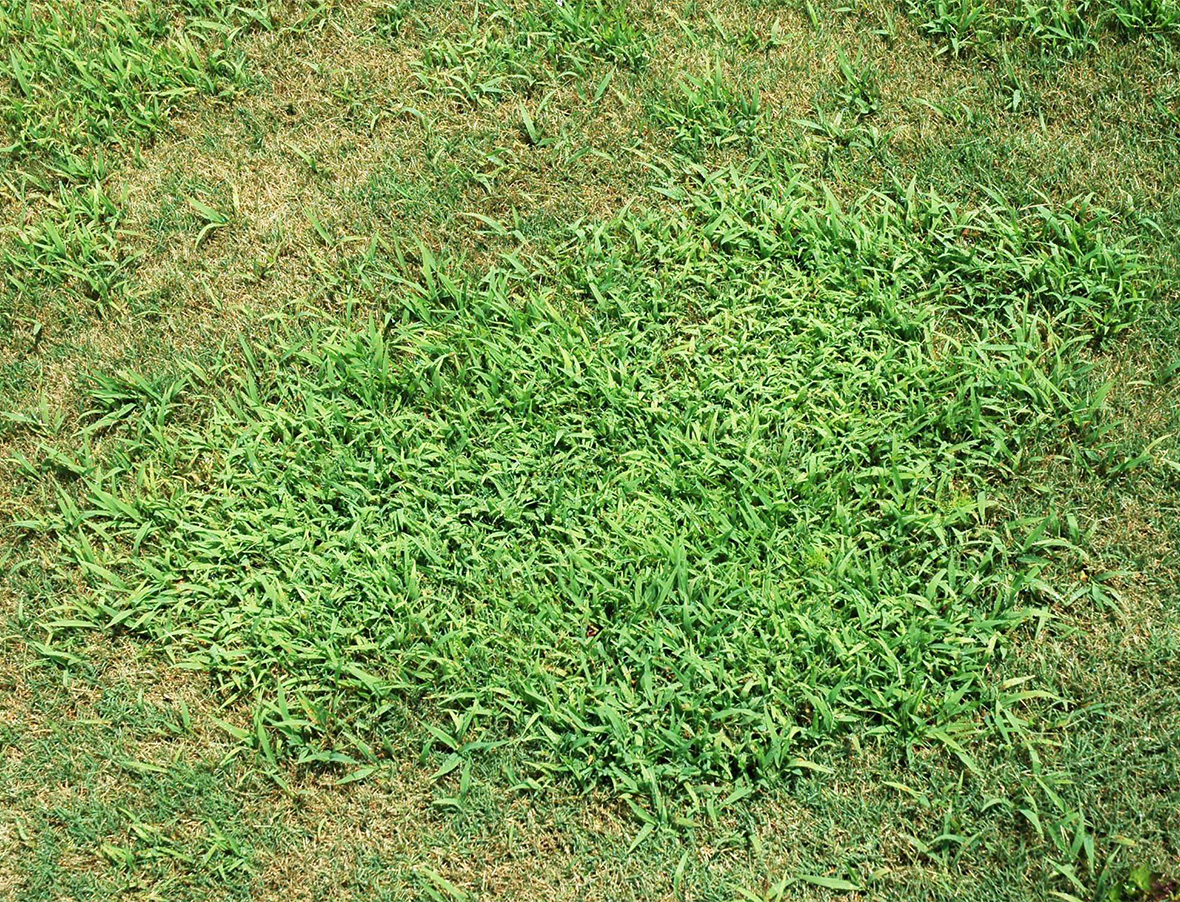crabgrass: (149, 227, 1130, 781)
